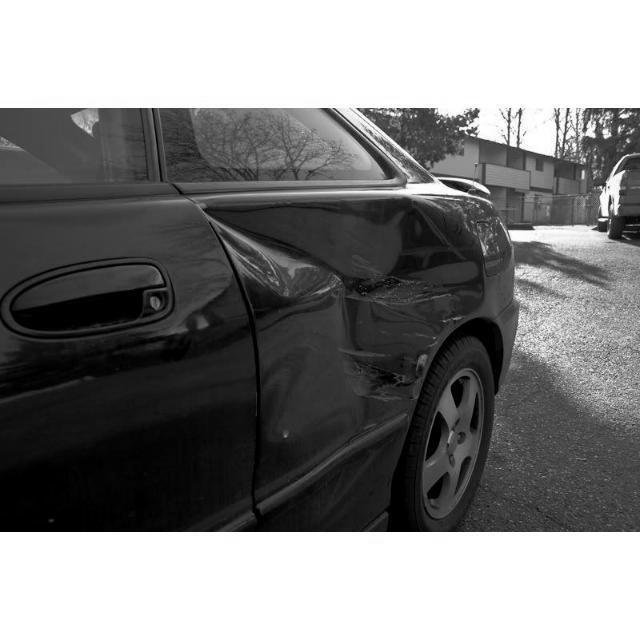quaterpanel-dent: (247, 199, 515, 411)
